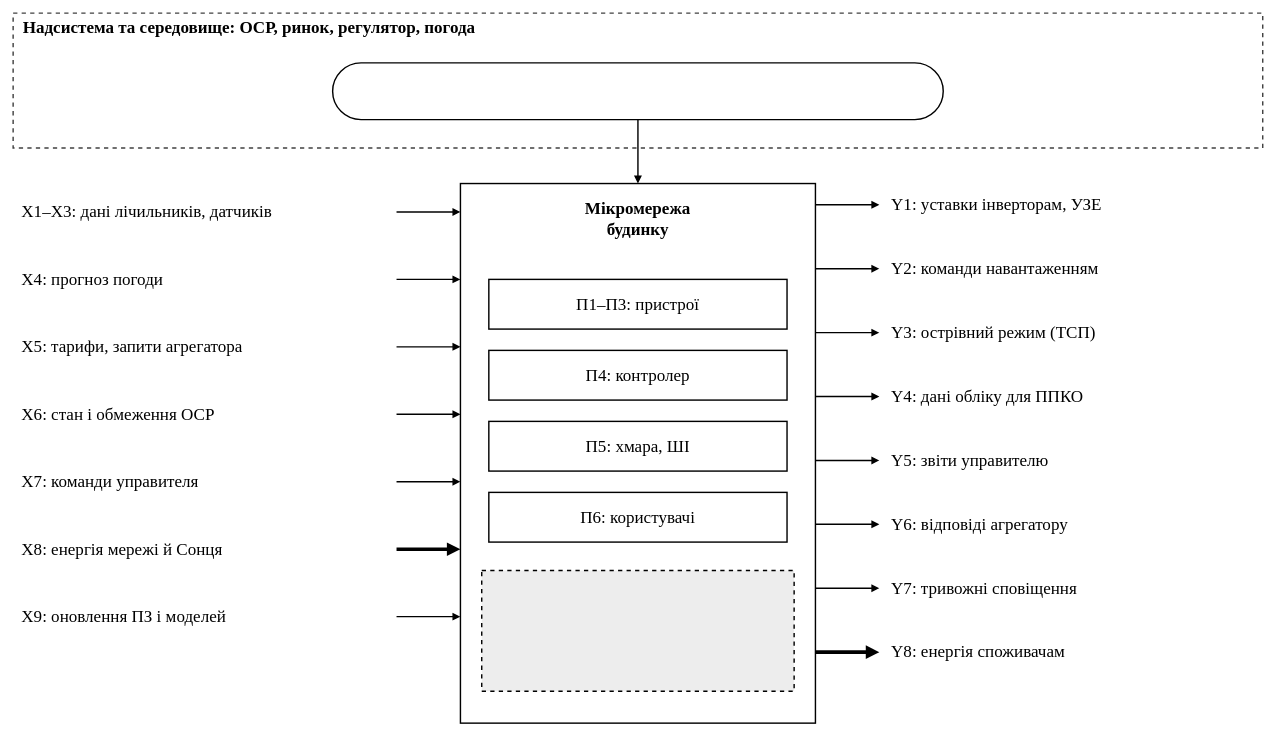
This 1275x736 diagram has some shape labels left out. Here are the shapes that lost their labels. From the top down, the centre of each, then its label:
(638,91): Ціль: надійне, економне й захищене енергозабезпечення
(637,630): СЗІБ (П7): захист команд, даних, приватності
